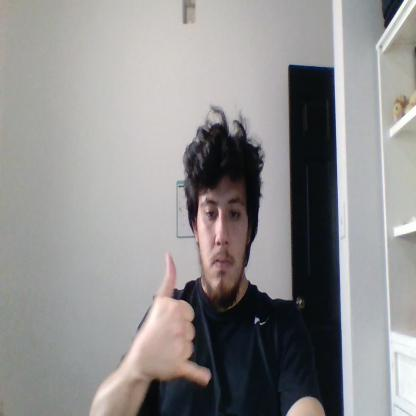Y: (148, 253, 211, 384)
